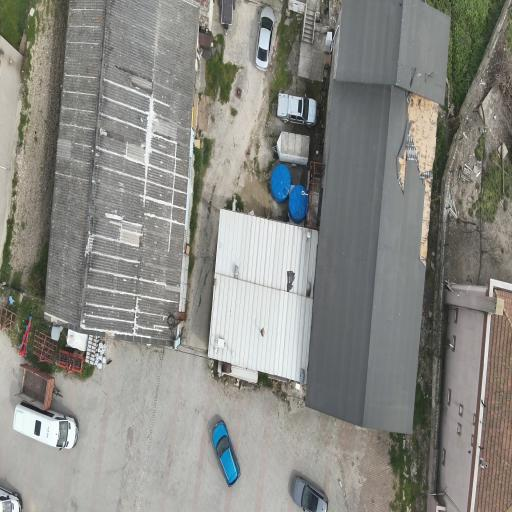car: (14, 402, 78, 449), (212, 421, 240, 486), (293, 477, 327, 511), (256, 7, 274, 71), (0, 488, 22, 511)
truck: (18, 364, 54, 410), (277, 94, 317, 126), (276, 132, 309, 165)
